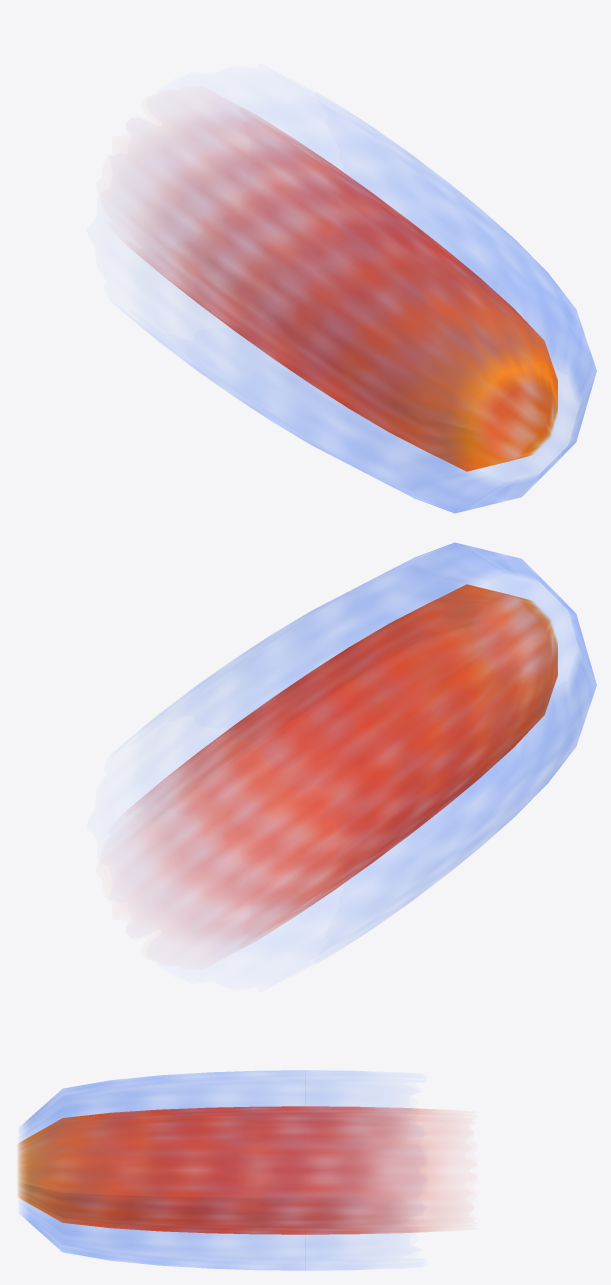
File: solar.glb
3 renders of one model, top to bottom at view 1: azimuth 30°, elevation 25°; view 2: azimuth 150°, elevation 25°; view 3: azimuth 270°, elevation 25°, orthographic. The views are drawn at different scales.
Visible parts, largest first — view 1: solar | static fallback; view 2: solar | static fallback; view 3: solar | static fallback.
Part boxes in pixels (x1=…): solar | static fallback: x1=127, y1=104, x2=596, y2=513; solar | static fallback: x1=127, y1=542, x2=596, y2=951; solar | static fallback: x1=17, y1=1070, x2=446, y2=1270.
Bounding box in the file's own units: 1.04 × 0.9887 × 3.
1 material, 1 textured.
